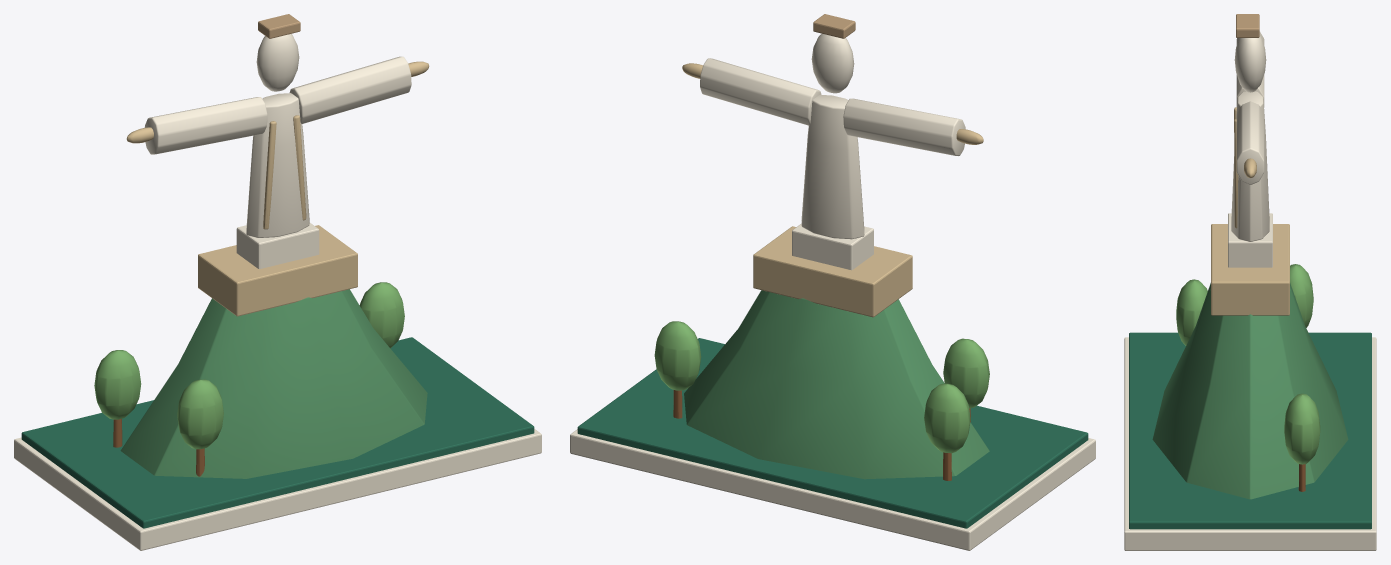
File: christ-the-redeemer.glb
3 views of the same model, side by side, from view 1: azimuth 30°, elevation 25°; view 2: azimuth 150°, elevation 25°; view 3: azimuth 270°, elevation 25° (orthographic).
Visible parts, largest first — view 1: Christ the Redeemer; view 2: Christ the Redeemer; view 3: Christ the Redeemer.
Boxes of the visible parts, bbox=[...] form: Christ the Redeemer: bbox=[14, 14, 541, 550]; Christ the Redeemer: bbox=[570, 14, 1095, 550]; Christ the Redeemer: bbox=[1124, 14, 1376, 550].
Size of the model in its own units: 1.47 by 1.53 by 0.8064.
